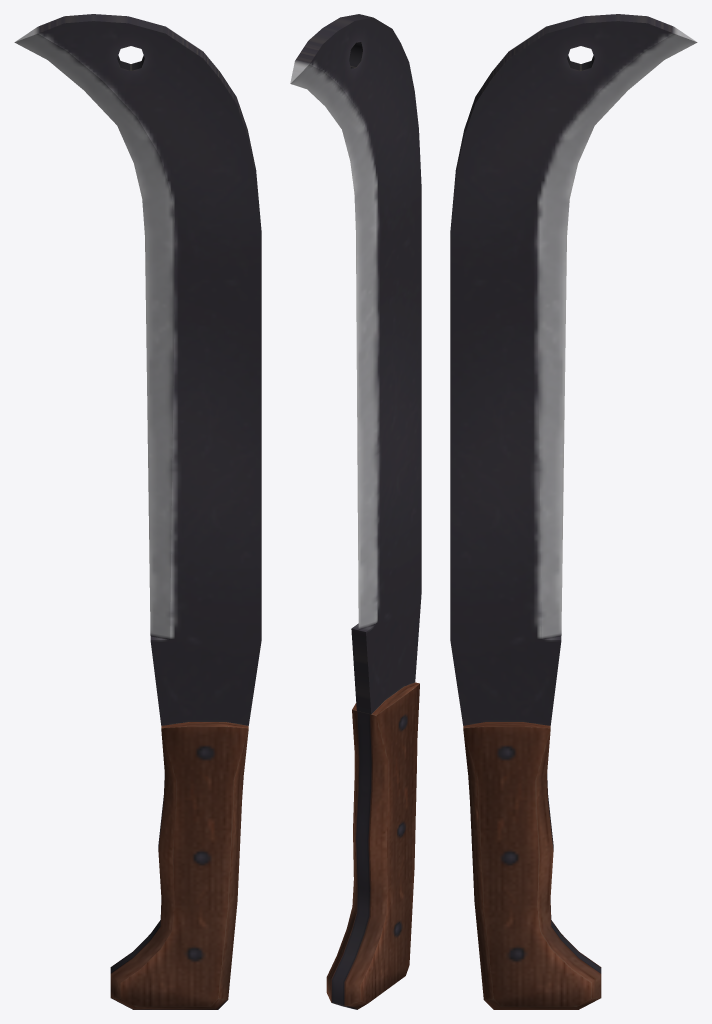
Rendered from HookMachete.fbx.
The picture shows the model from 3 angles, left to right: view 1: azimuth 90°, elevation 25°; view 2: azimuth 150°, elevation 25°; view 3: azimuth 270°, elevation 25°; orthographic projection.
Visible parts, largest first — view 1: HookMachete; view 2: HookMachete; view 3: HookMachete.
Part boxes in pixels (<box>): HookMachete: <box>14,14,261,1009</box>; HookMachete: <box>290,14,421,1009</box>; HookMachete: <box>450,14,697,1009</box>.
Bounding box in the file's own units: 0.0133 × 0.3729 × 0.0845.
